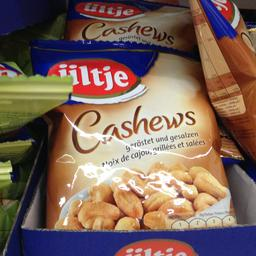nuts: (28, 38, 236, 228)
